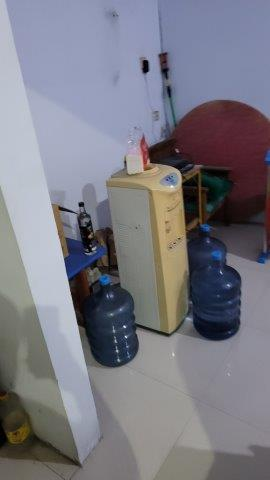botolkaca: (75, 202, 99, 259)
